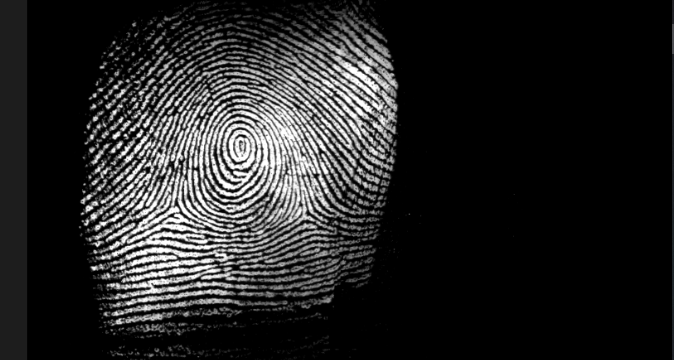nucelo: (226, 121, 254, 163)
verticilo: (156, 196, 189, 224), (288, 203, 324, 228)
